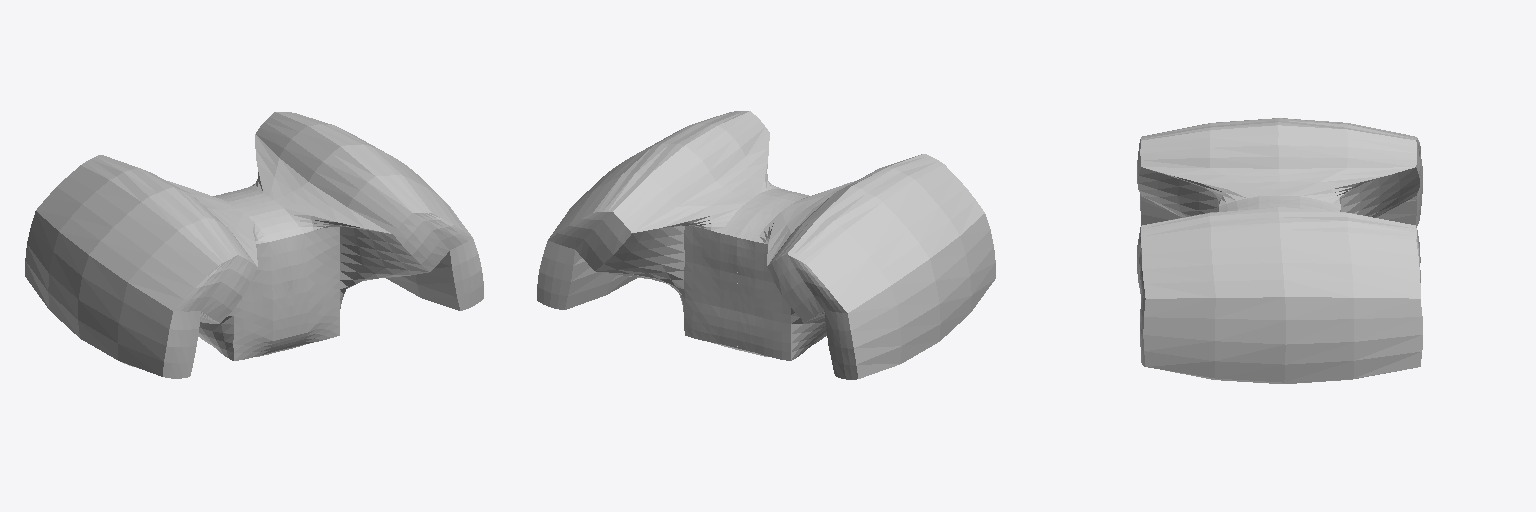
The model's file is bird.obj.
3 renders of one model, left to right at view 1: azimuth 30°, elevation 25°; view 2: azimuth 150°, elevation 25°; view 3: azimuth 270°, elevation 25°, orthographic.
Visible parts, largest first — view 1: Cube_Cube.001; view 2: Cube_Cube.001; view 3: Cube_Cube.001.
Part boxes in pixels (x1,y1,x2,y2): Cube_Cube.001: (25, 112, 483, 378); Cube_Cube.001: (537, 111, 995, 379); Cube_Cube.001: (1137, 118, 1422, 383).
Size of the model in its own units: 6.62 by 3.25 by 4.69.